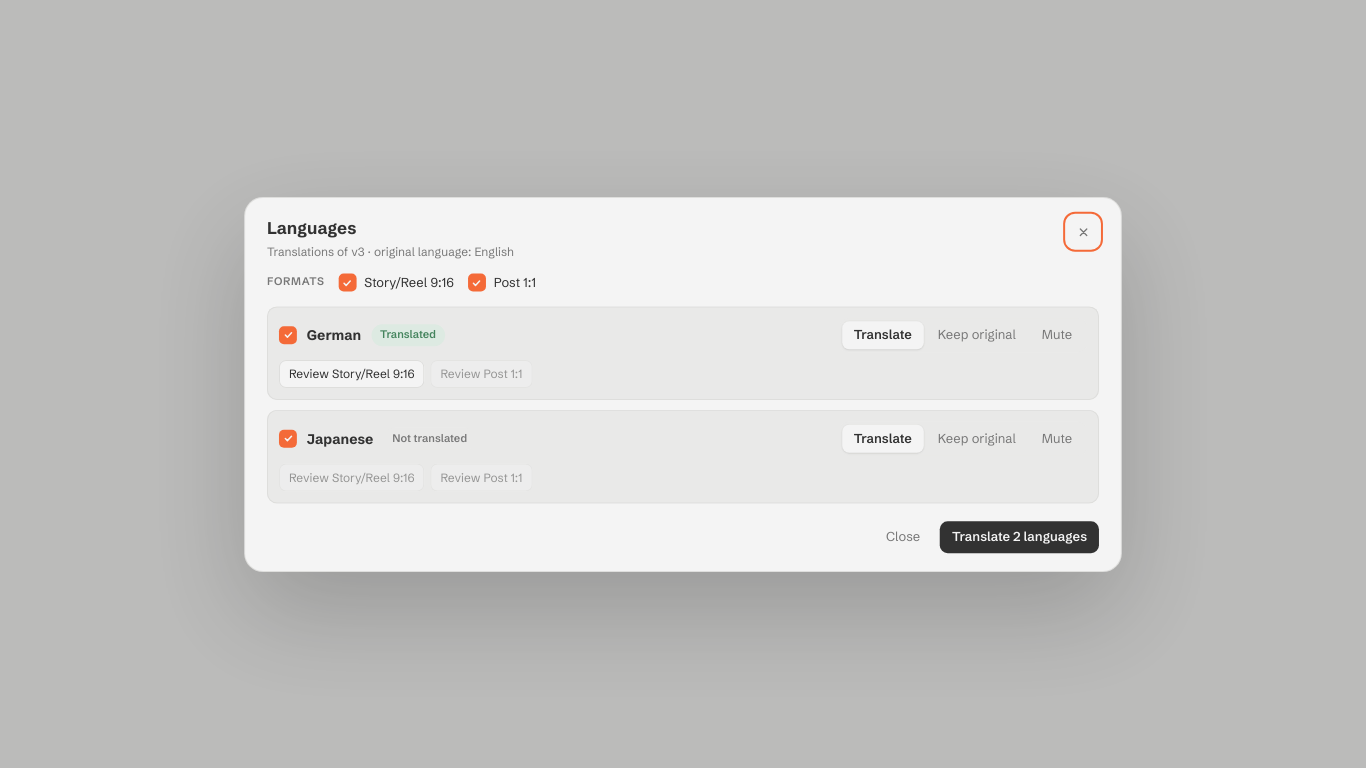
LanguagesPanel · the turn at work › opens the review table of a translation
Click the button "Review Story/Reel 9:16" below "German" at (350, 373), box [277,359,423,387]
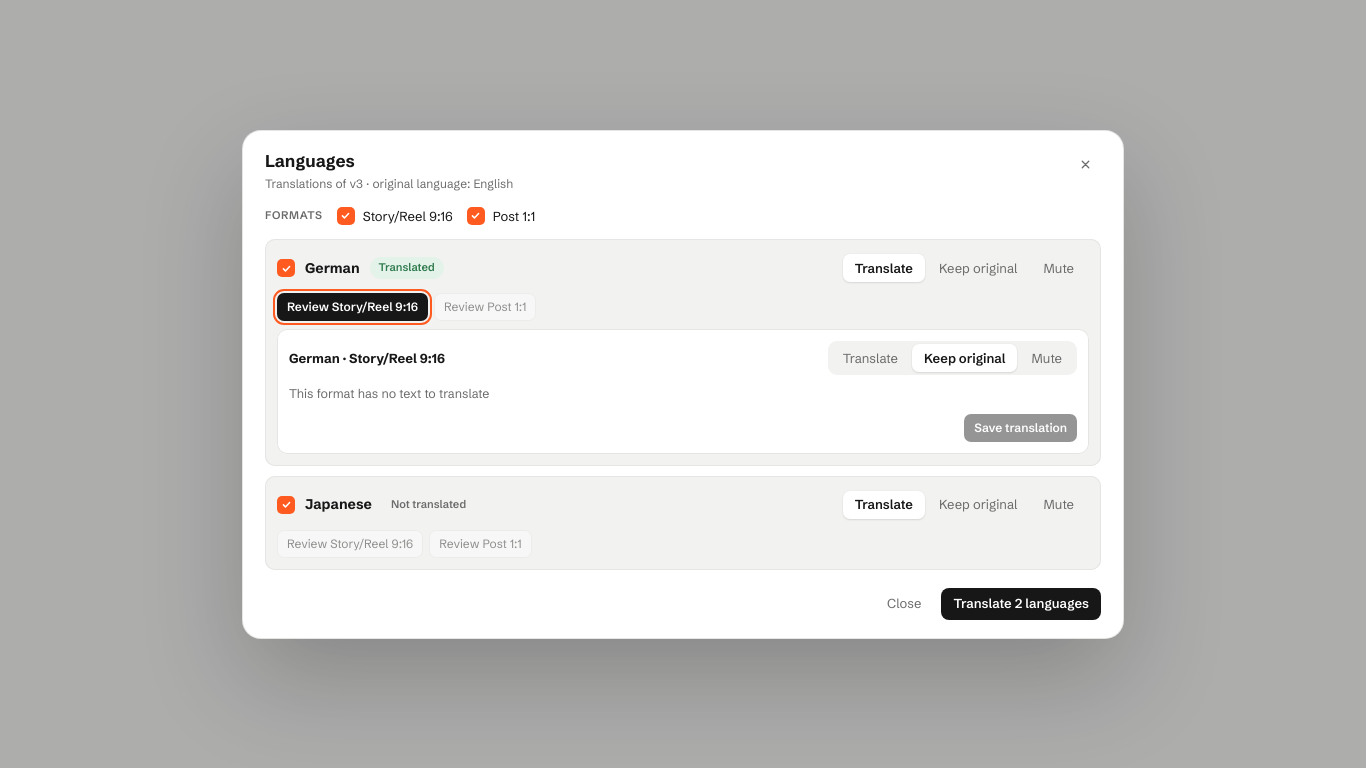
Check: the text "This format has no text to translate" is shown, box [289,386,490,401]
